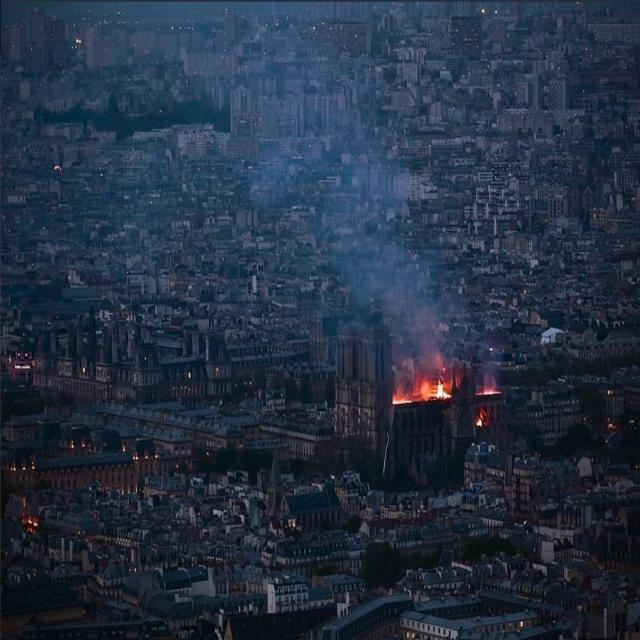Fire: (392, 378, 504, 406), (476, 408, 485, 426)
Smoke: (244, 117, 502, 368)
